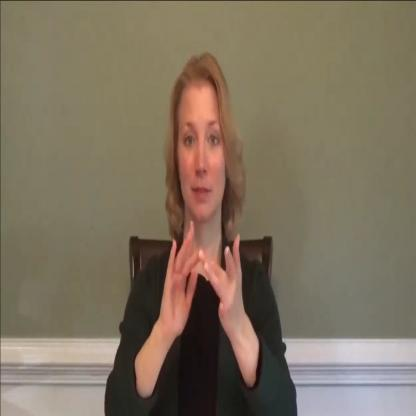Internet: (149, 214, 248, 354)
